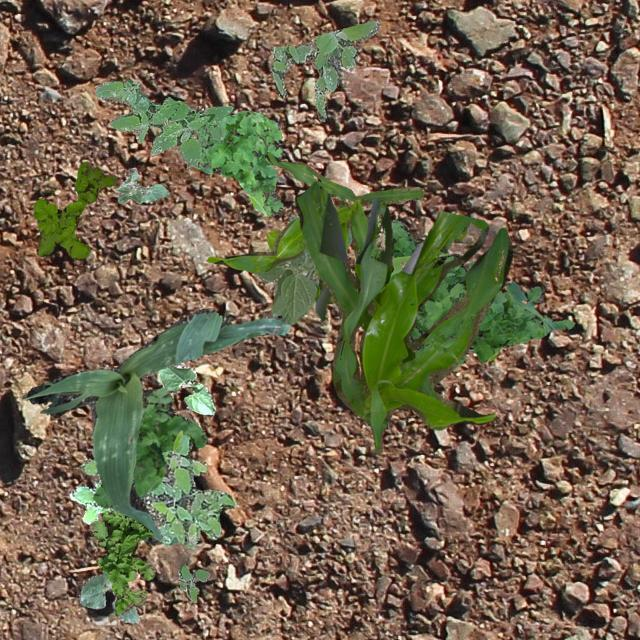crop: (24, 308, 290, 544), (294, 180, 512, 452), (205, 152, 422, 322), (252, 212, 350, 326), (265, 230, 333, 302), (78, 570, 138, 622), (156, 364, 214, 414), (114, 168, 168, 202)
weed: (386, 218, 574, 369), (68, 416, 235, 546), (91, 387, 206, 508), (94, 78, 232, 168), (268, 20, 379, 120), (192, 110, 282, 214), (32, 160, 116, 258), (89, 510, 154, 614), (178, 564, 208, 602)
